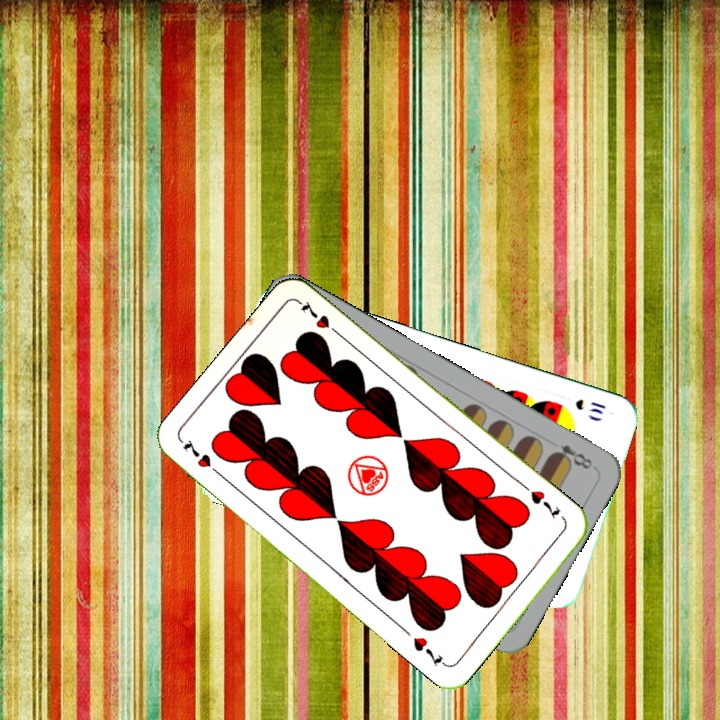E8: (547, 440, 598, 472)
H7: (178, 435, 226, 481), (519, 481, 563, 522)
S10: (571, 395, 609, 417)
